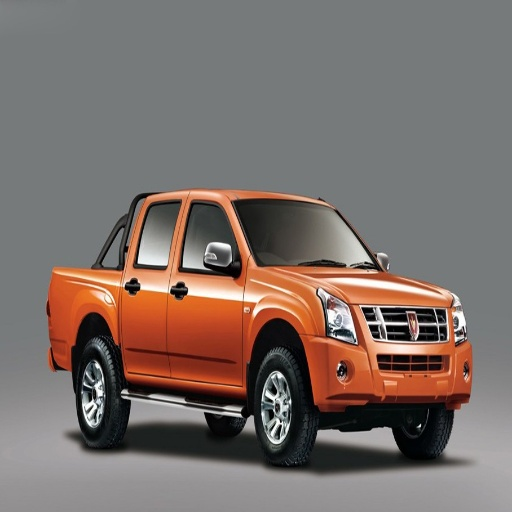front_bumper: (305, 304, 472, 409)
front_right_door: (168, 197, 243, 385)
front_right_light: (318, 291, 359, 345)
trunk: (50, 270, 115, 366)
